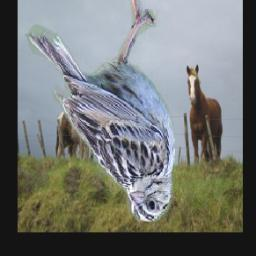Sparrow: (26, 0, 176, 223)
